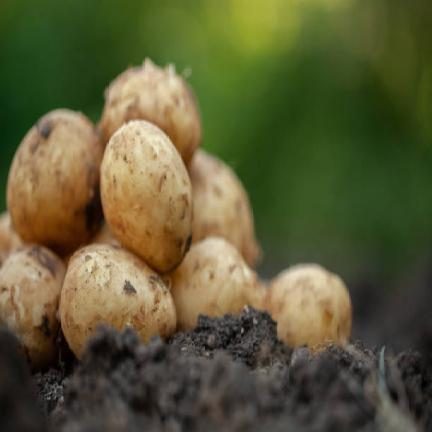potato: (100, 120, 191, 272), (7, 109, 102, 254), (59, 244, 176, 357), (99, 58, 200, 162), (188, 150, 260, 267), (171, 237, 258, 329), (0, 245, 64, 368), (266, 265, 351, 346), (63, 223, 120, 263), (0, 212, 23, 266)
